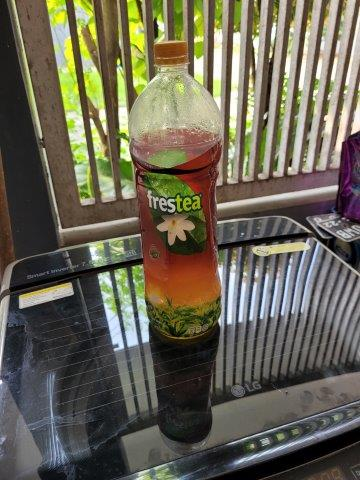botolplastik: (128, 40, 222, 338)
